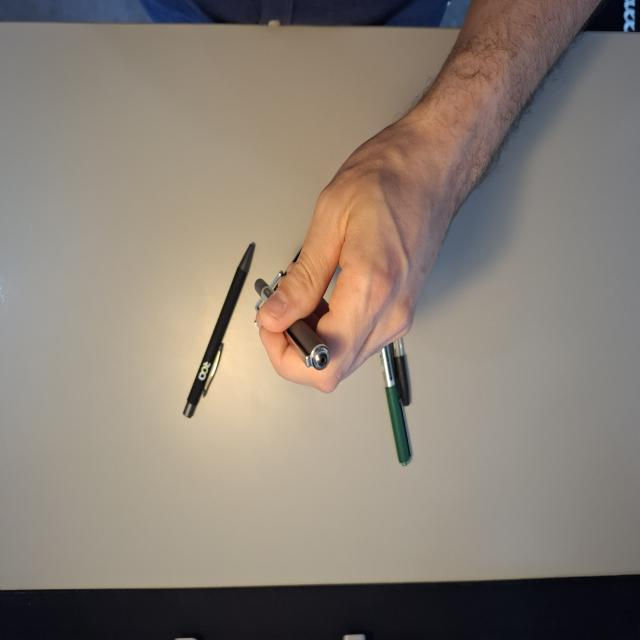glove_off: (254, 107, 462, 396)
